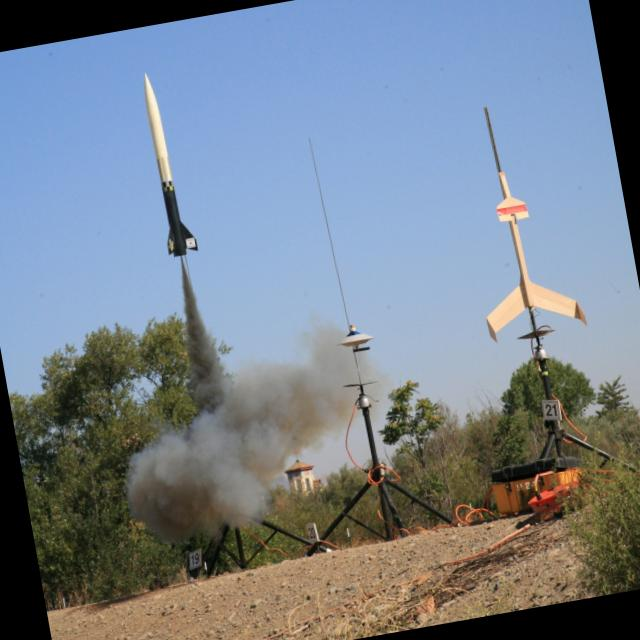rocket: (125, 68, 223, 386)
